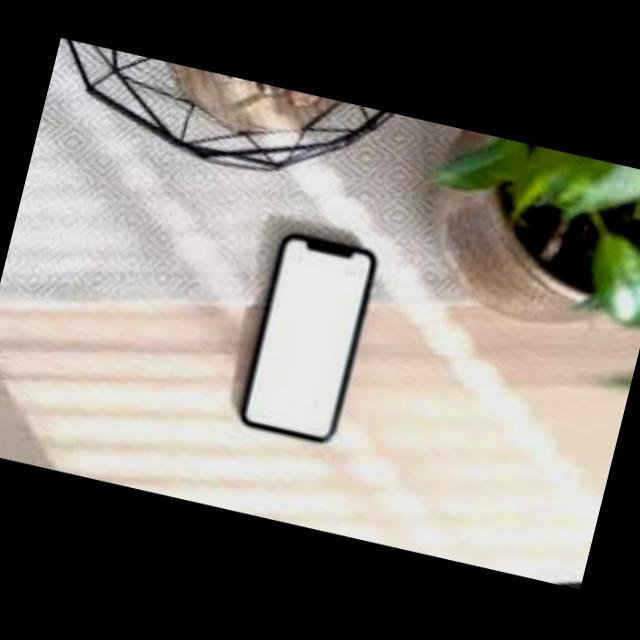Smartphone: (235, 227, 379, 452)
